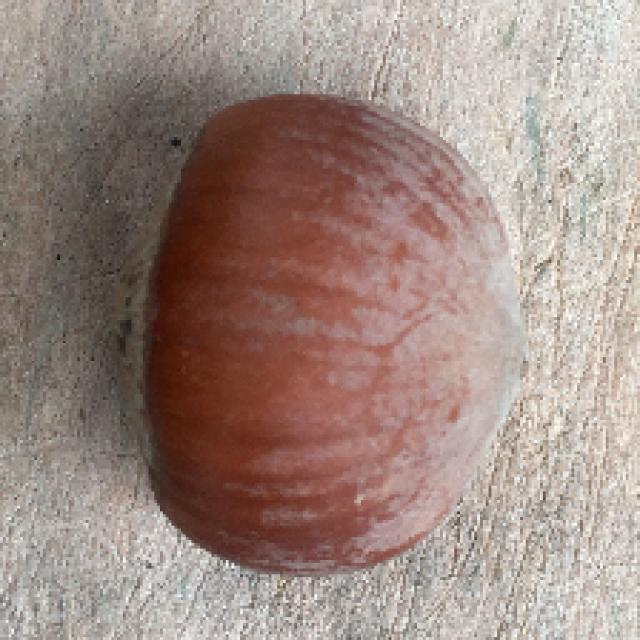qualityHazelnut: (114, 92, 530, 578)
